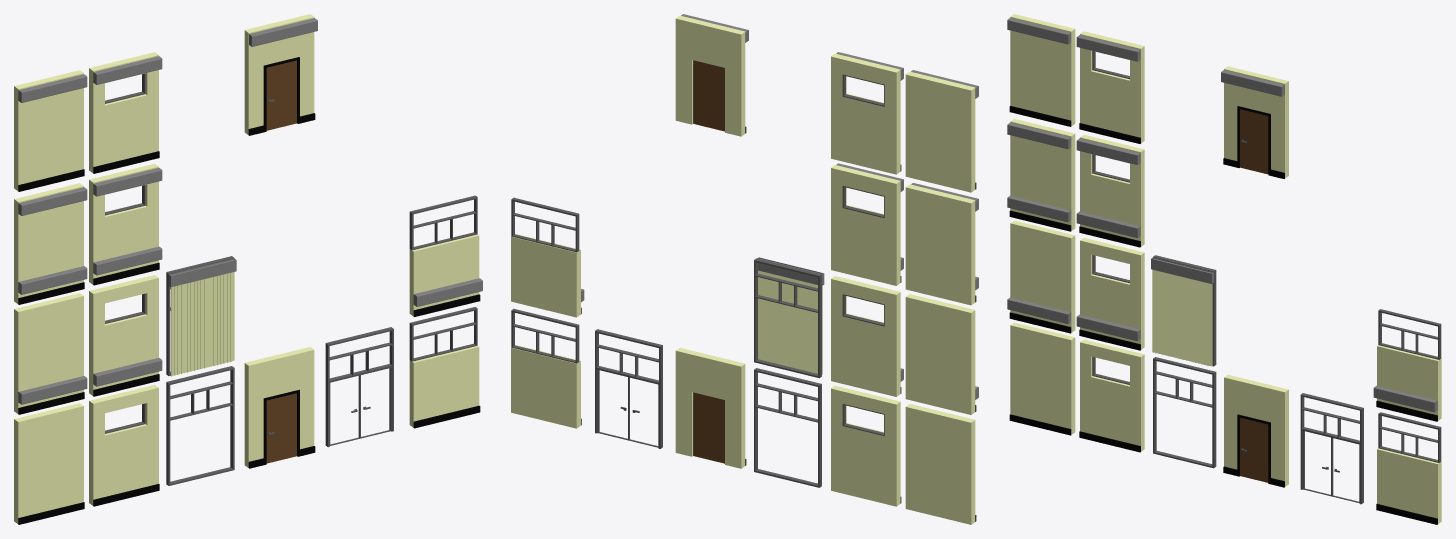
The model's file is LibraryWalls.fbx.
3 renders of one model, left to right at view 1: azimuth 30°, elevation 25°; view 2: azimuth 150°, elevation 25°; view 3: azimuth 330°, elevation 25°, orthographic. The views are drawn at different scales.
Visible parts, largest first — view 1: WallDoor v4, Wall v3, WallDoor, Wall v2, Wall v4, Wall v1, FullWindowBlinders, WallWindow v3, WallWindow v4, WallWindow v2, WallWindow v1, WallUpperWindow v2 (+3 smaller); view 2: Wall v3, Wall v4, WallDoor v4, Wall v2, Wall v1, WallDoor, FullWindowBlinders, WallWindow v3, WallWindow v4, WallWindow v2, WallWindow v1, WallUpperWindow v2 (+3 smaller); view 3: Wall v3, Wall v4, Wall v2, Wall v1, WallDoor v4, WallDoor, FullWindowBlinders, WallWindow v3, WallWindow v4, WallWindow v2, WallWindow v1, WallUpperWindow v2 (+3 smaller).
Boxes of the visible parts, x1,y1,x2,y2 form: WallDoor v4: [244, 14, 317, 135]; Wall v3: [14, 183, 87, 304]; WallDoor: [244, 347, 315, 468]; Wall v2: [14, 293, 87, 414]; Wall v4: [14, 70, 87, 191]; Wall v1: [14, 403, 84, 524]; FullWindowBlinders: [166, 256, 236, 376]; WallWindow v3: [89, 163, 162, 285]; WallWindow v4: [89, 52, 162, 173]; WallWindow v2: [89, 275, 162, 396]; WallWindow v1: [89, 384, 159, 506]; WallUpperWindow v2: [409, 195, 482, 316]; Wall v3: [905, 183, 978, 305]; Wall v4: [905, 70, 978, 192]; WallDoor v4: [675, 14, 748, 136]; Wall v2: [905, 294, 978, 414]; Wall v1: [905, 404, 976, 524]; WallDoor: [675, 348, 746, 468]; FullWindowBlinders: [754, 257, 824, 378]; WallWindow v3: [831, 163, 903, 285]; WallWindow v4: [831, 52, 903, 174]; WallWindow v2: [831, 276, 903, 396]; WallWindow v1: [831, 385, 901, 506]; WallUpperWindow v2: [511, 197, 584, 317]; Wall v3: [1007, 119, 1075, 231]; Wall v4: [1007, 14, 1075, 126]; Wall v2: [1007, 220, 1075, 333]; Wall v1: [1009, 322, 1075, 435]; WallDoor v4: [1221, 66, 1288, 178]; WallDoor: [1223, 374, 1288, 487]; FullWindowBlinders: [1151, 255, 1216, 366]; WallWindow v3: [1076, 134, 1144, 247]; WallWindow v4: [1076, 31, 1144, 143]; WallWindow v2: [1076, 238, 1144, 350]; WallWindow v1: [1079, 339, 1144, 452]; WallUpperWindow v2: [1373, 309, 1441, 421].
Bounding box in the file's own units: 1402 × 1265 × 40.
